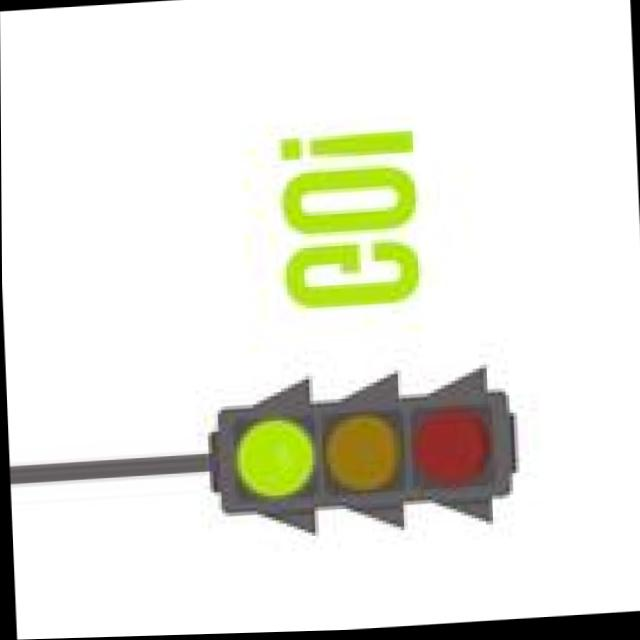green_light: (186, 344, 335, 536)
